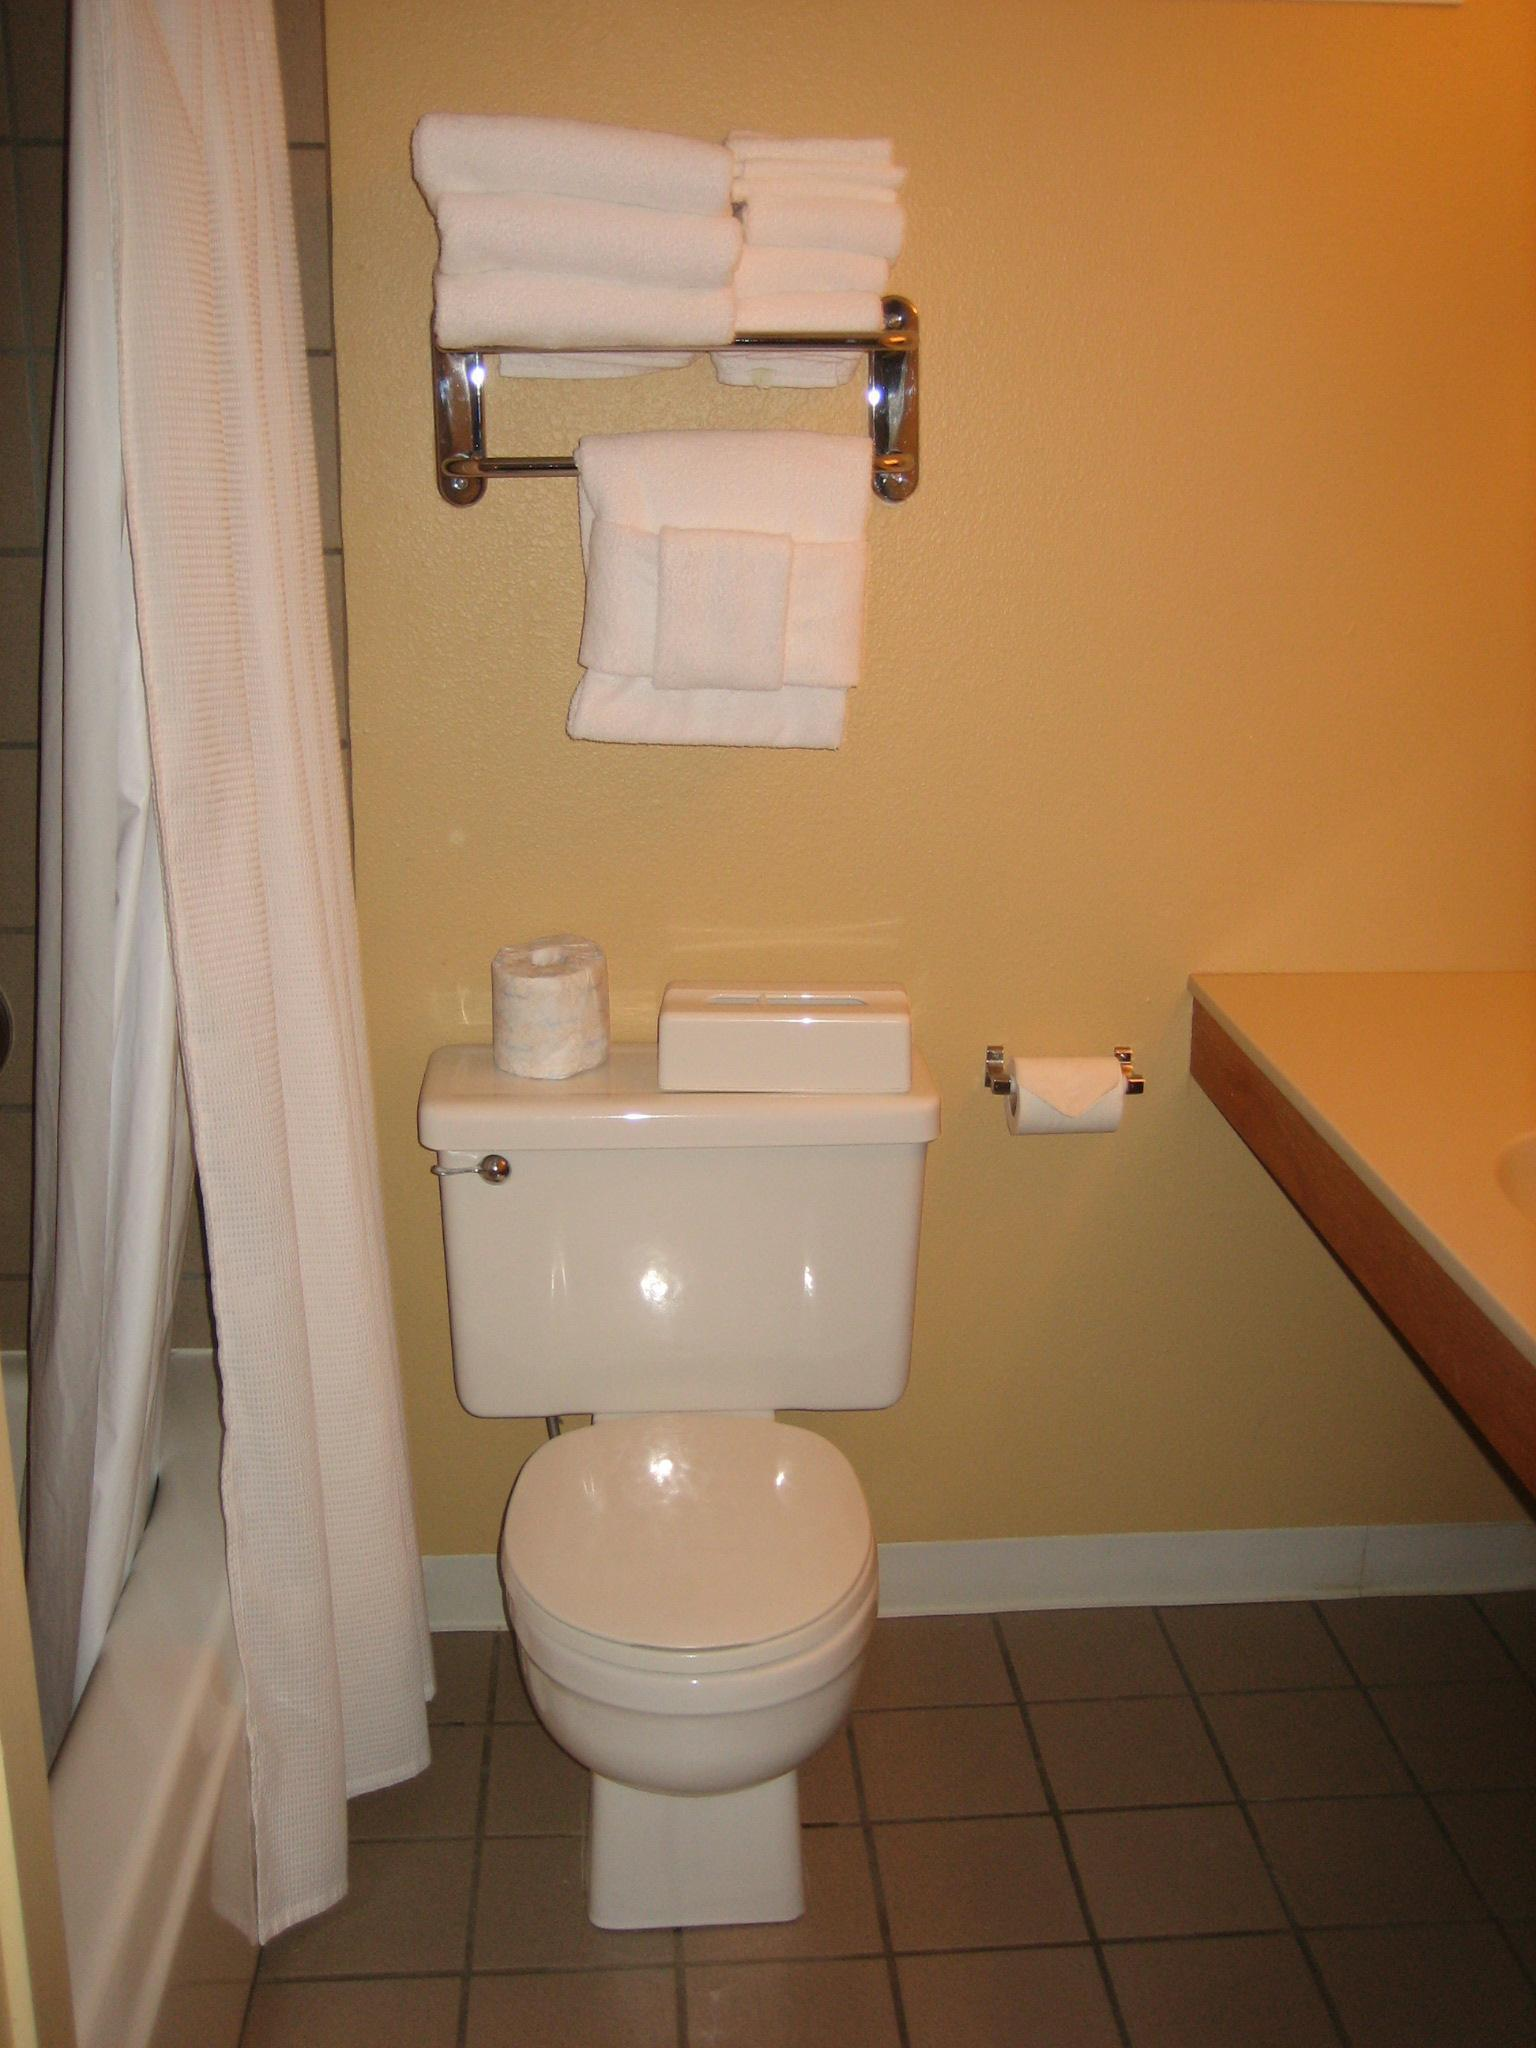Sanitario: (395, 1006, 973, 1953)
